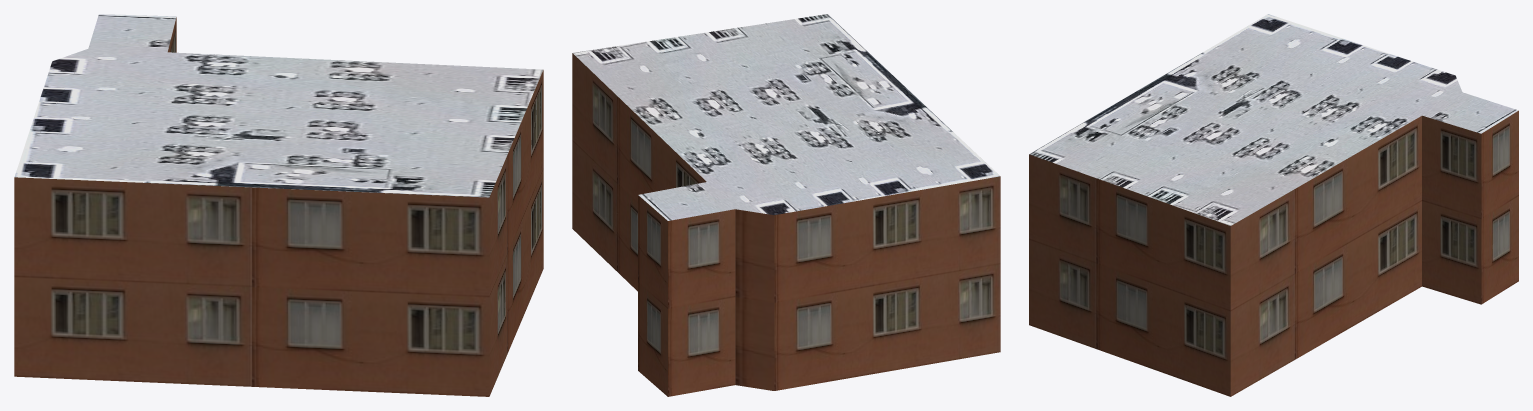
Rendered from ResTex__1237.fbx.
3 views of the same model, side by side, from view 1: azimuth 30°, elevation 25°; view 2: azimuth 150°, elevation 25°; view 3: azimuth 270°, elevation 25° (orthographic). The views are drawn at different scales.
Parts seen in each view (by area): view 1: CityEngineMaterial_20_m, CityEngineMaterial_4_m; view 2: CityEngineMaterial_20_m, CityEngineMaterial_4_m; view 3: CityEngineMaterial_20_m, CityEngineMaterial_4_m.
Boxes of the visible parts, bbox=[...] form: CityEngineMaterial_20_m: bbox=[14, 17, 543, 396]; CityEngineMaterial_4_m: bbox=[14, 14, 543, 197]; CityEngineMaterial_20_m: bbox=[572, 53, 1000, 396]; CityEngineMaterial_4_m: bbox=[573, 14, 999, 220]; CityEngineMaterial_20_m: bbox=[1029, 110, 1518, 396]; CityEngineMaterial_4_m: bbox=[1029, 14, 1518, 225].
Bounding box in the file's own units: 15.97 × 6 × 15.59.
Materials: 2 (2 with a texture image).
